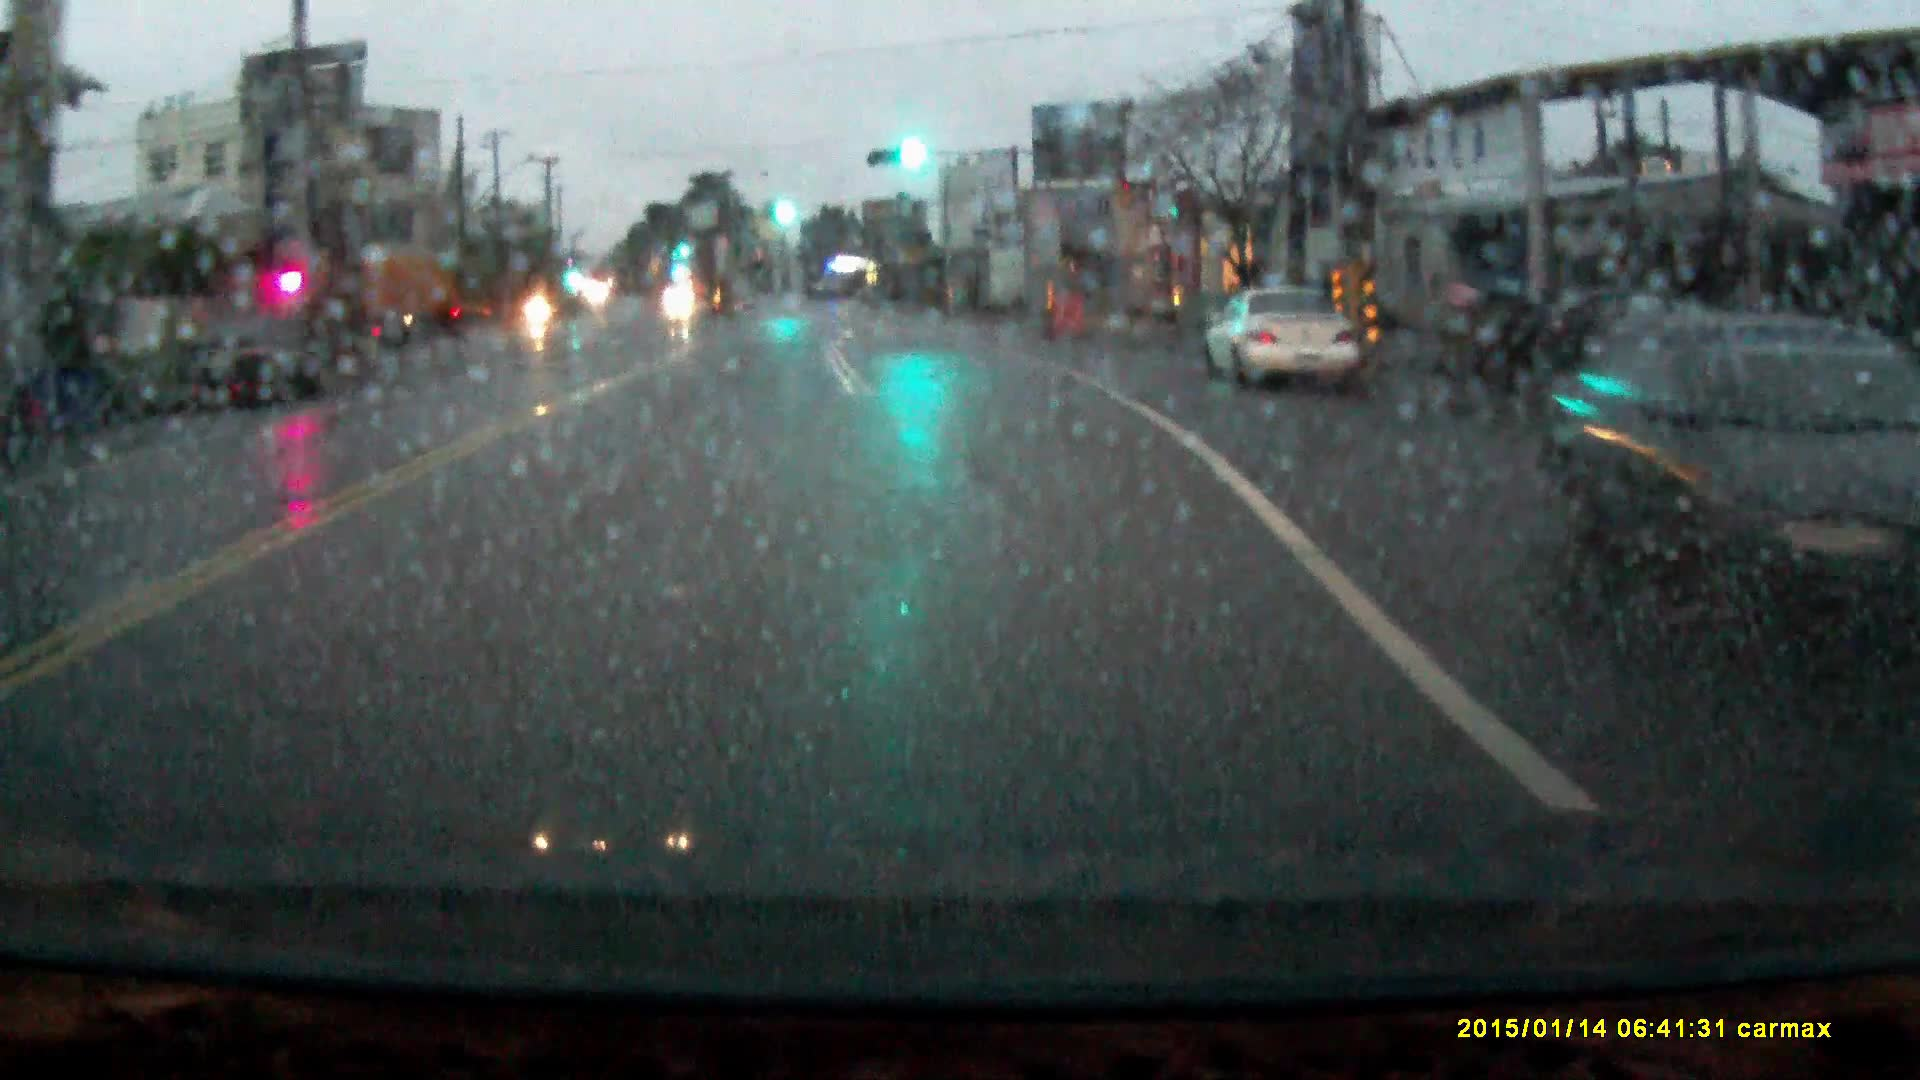rider: (523, 275, 556, 335)
vehicle: (1202, 289, 1353, 394), (331, 247, 492, 338), (175, 322, 333, 411), (666, 290, 694, 314)
